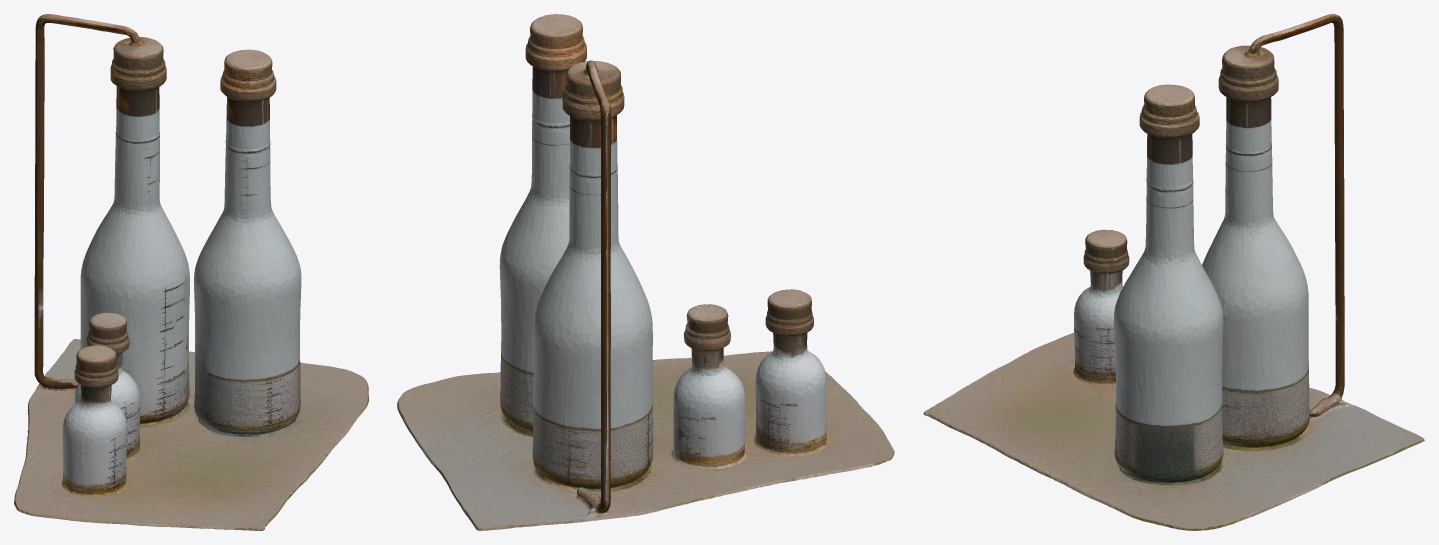
File: wing (129).glb
3 renders of one model, left to right at view 1: azimuth 30°, elevation 25°; view 2: azimuth 150°, elevation 25°; view 3: azimuth 270°, elevation 25°, orthographic. The views are drawn at different scales.
Visible parts, largest first — view 1: Hy21_Mesh.obj; view 2: Hy21_Mesh.obj; view 3: Hy21_Mesh.obj.
Boxes of the visible parts, x1=… form: Hy21_Mesh.obj: x1=14, y1=14, x2=368, y2=530; Hy21_Mesh.obj: x1=397, y1=14, x2=894, y2=530; Hy21_Mesh.obj: x1=923, y1=14, x2=1424, y2=530.
Size of the model in its own units: 1.85 by 1.69 by 1.96.
1 material, 1 textured.
